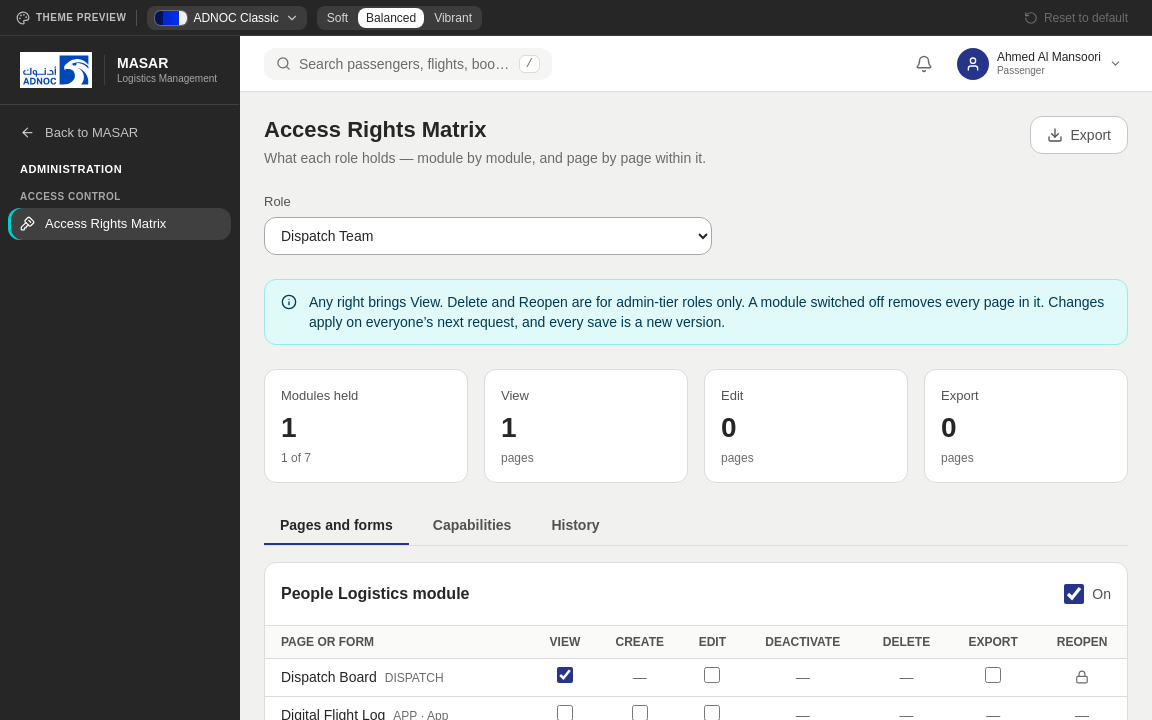
BRD-D.2.1.3-MST the Access Rights Matrix page (spec 10 §2.3) › PROMPT-2.7 any right brings View; a save sends the matrix version
Click the checkbox named "Edit: Digital Flight Log" at coordinates (712, 712), box [704,704,720,719]
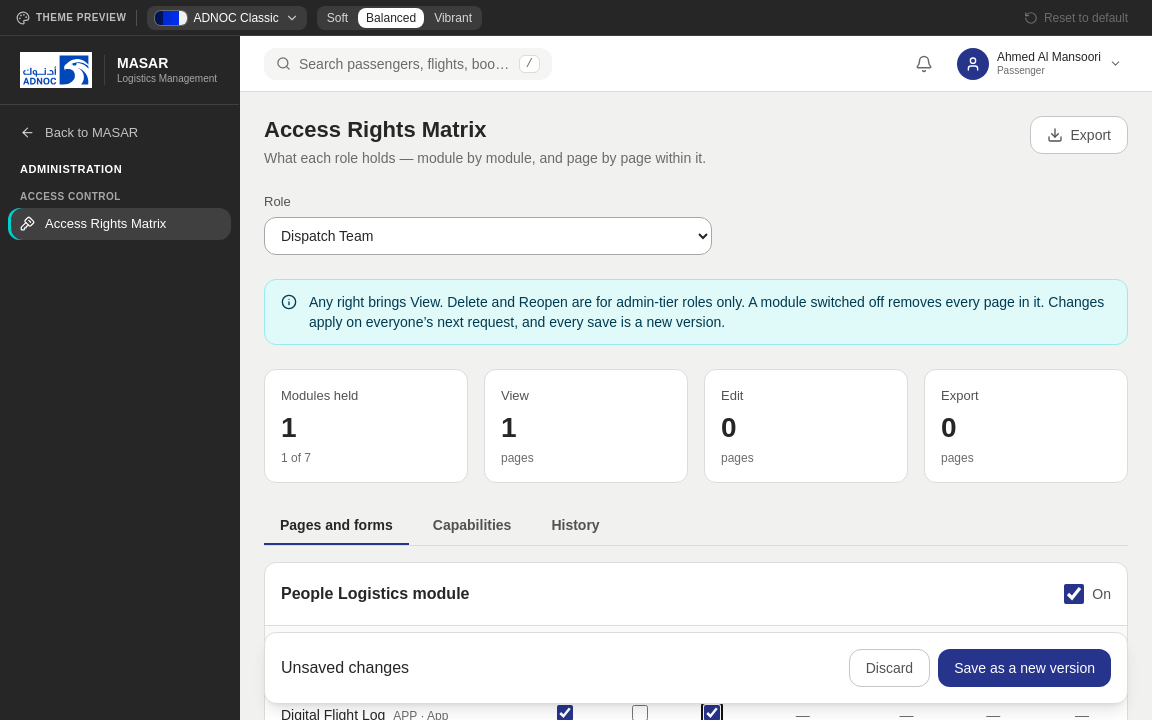
Check: the checkbox named "View: Digital Flight Log" is checked, box [557,704,573,719]
Click the switch named "People Logistics module switched on" at coordinates (1074, 594), box [1064,584,1084,604]
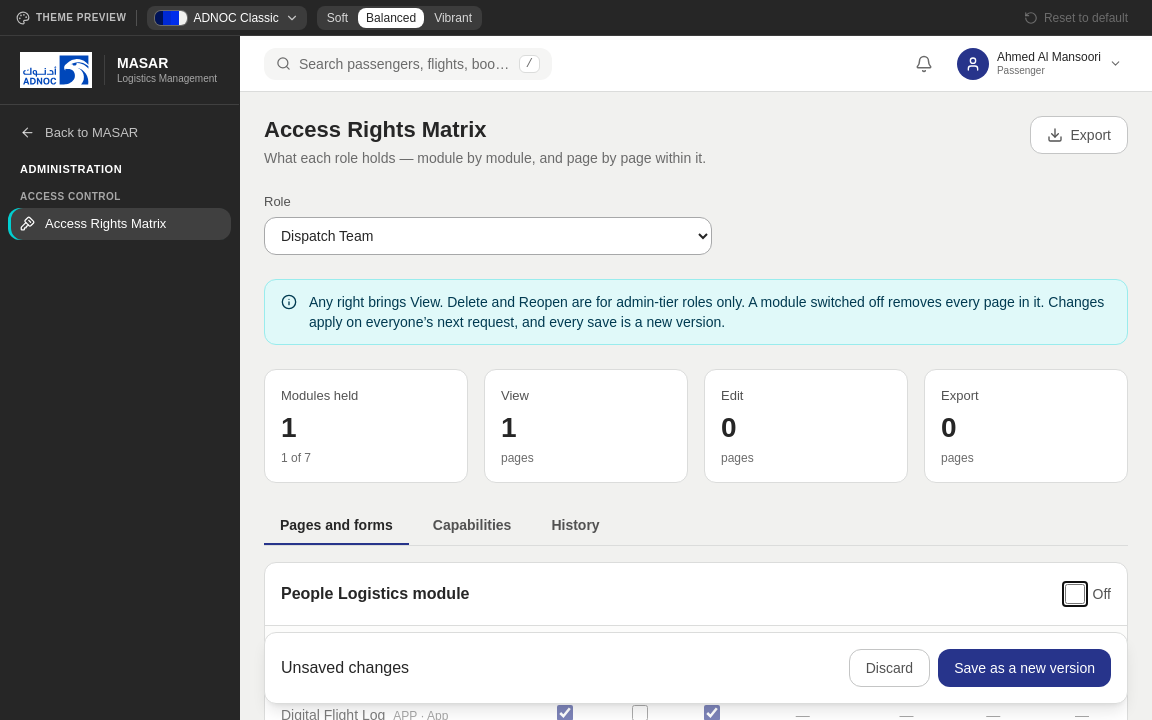
Click the button "Save as a new version" at coordinates (1025, 668), box [938,649,1111,687]
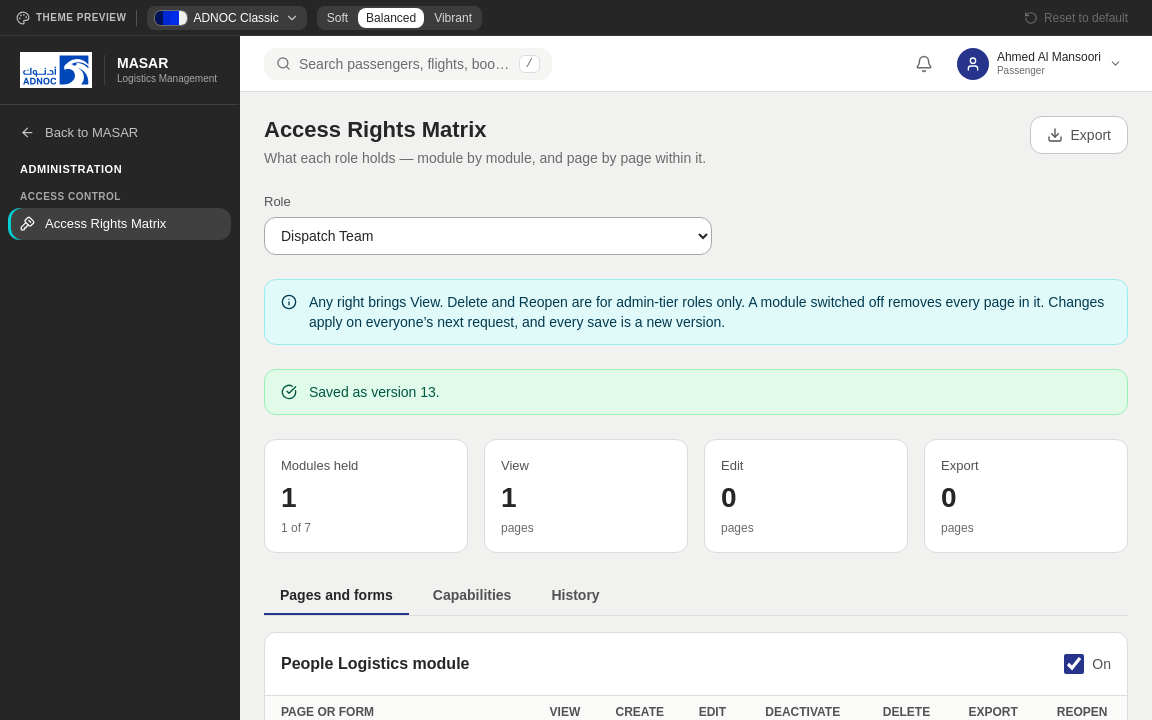
Check: the text "Saved as version 13." is shown, box [309,384,440,400]
